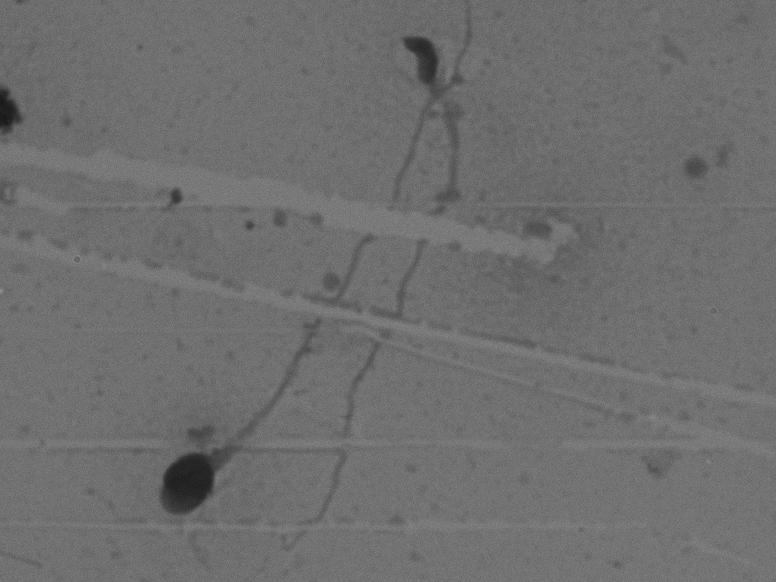Abnormal: (114, 100, 440, 543), (245, 18, 481, 557)
